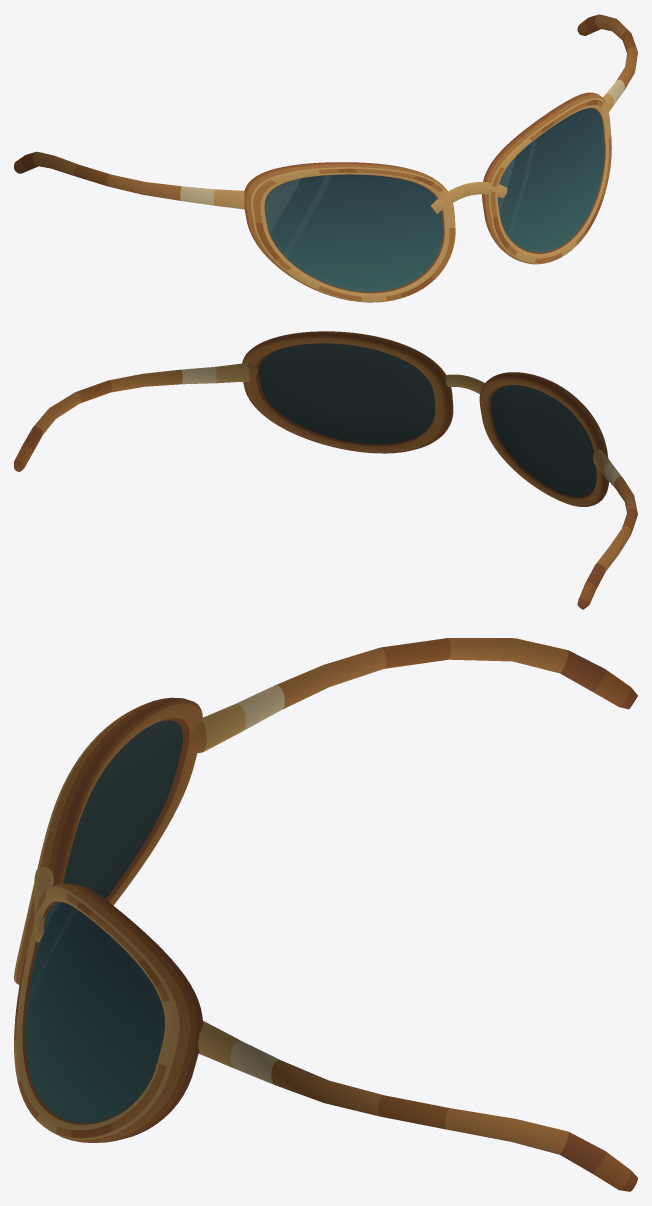
File: wear-face-honey-panto.glb
3 renders of one model, top to bottom at view 1: azimuth 30°, elevation 25°; view 2: azimuth 150°, elevation 25°; view 3: azimuth 270°, elevation 25°, orthographic. The views are drawn at different scales.
Parts seen in each view (by area): view 1: wear-face-honey-panto; view 2: wear-face-honey-panto; view 3: wear-face-honey-panto.
Boxes of the visible parts, x1,y1,x2,y2 form: wear-face-honey-panto: [14, 14, 637, 302]; wear-face-honey-panto: [14, 331, 637, 609]; wear-face-honey-panto: [14, 638, 637, 1191].
Bounding box in the file's own units: 0.6713 × 0.1432 × 0.3599.
1 material, 1 textured.
